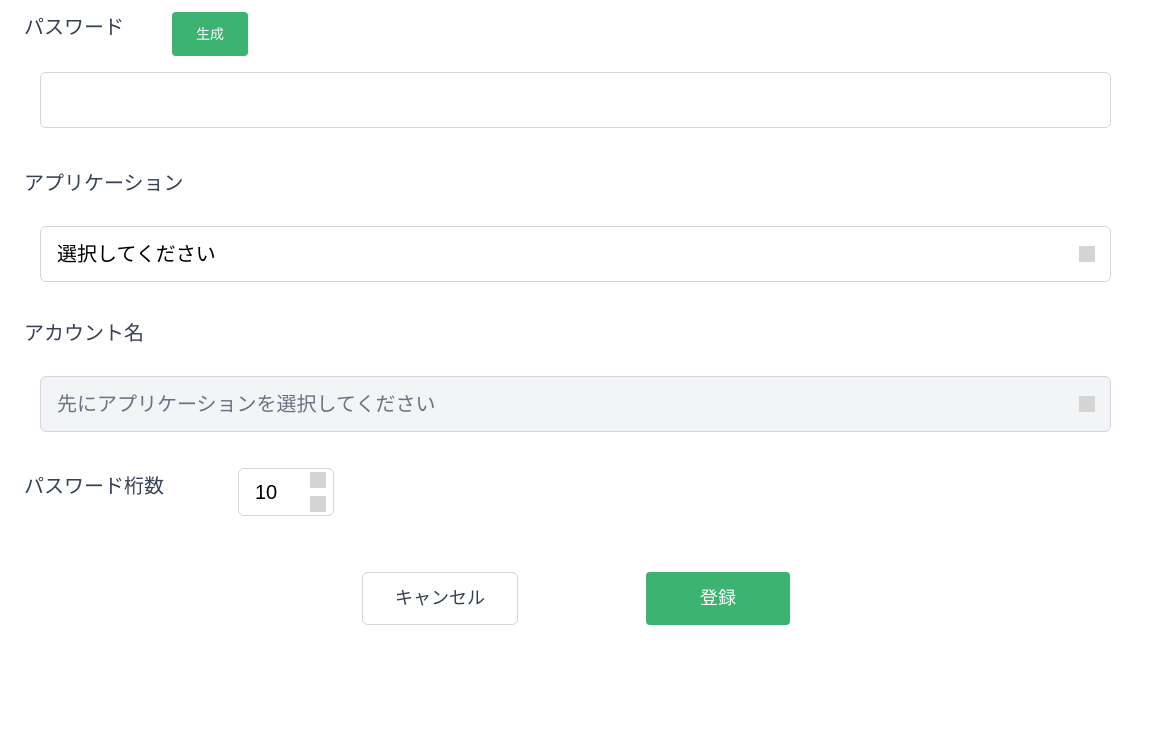
PasswordForm › アプリ選択に応じてアカウント候補が連動する
Check: the dropdown below "アカウント名" is disabled, box 40,376 -> 1111,432
Select "アプリA" in the dropdown below "アプリケーション": (575, 254) 40,226 -> 1111,282
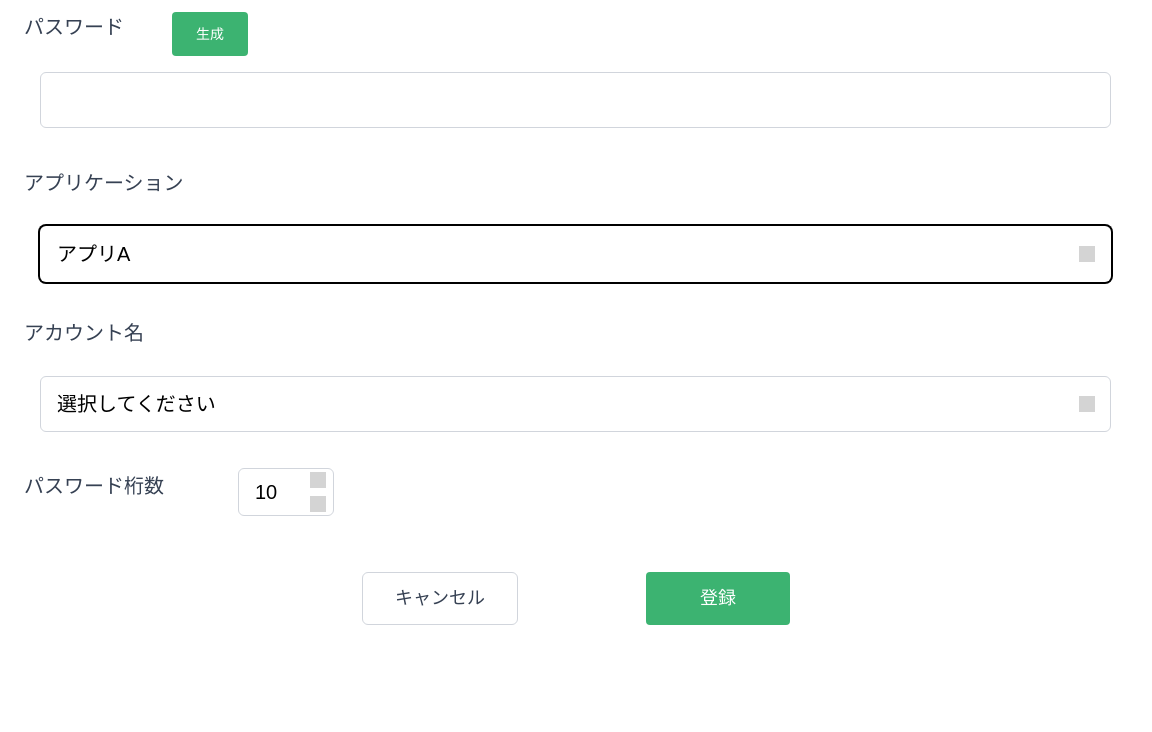
Check: the dropdown below "アカウント名" is enabled, box 40,376 -> 1111,432
